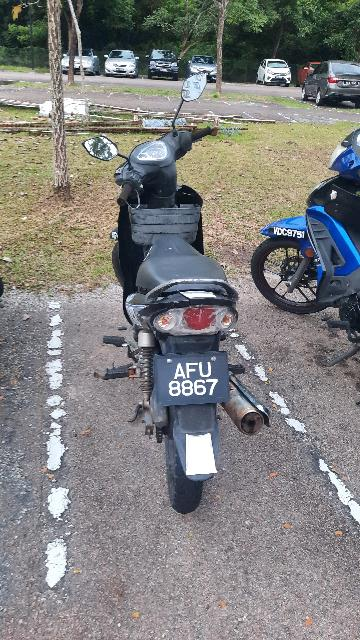License_Plate: (149, 343, 242, 412)
motorcycle: (71, 54, 290, 516)
